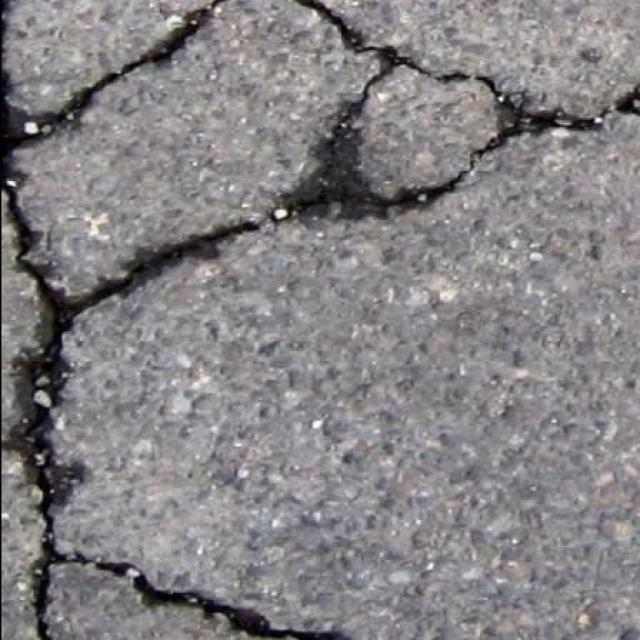Crack: (0, 0, 262, 640), (264, 0, 640, 228), (93, 561, 346, 639)
